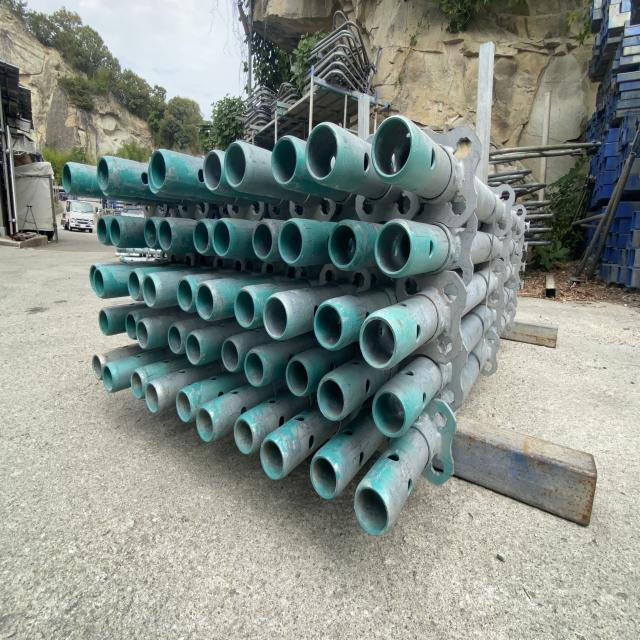pipe: (369, 117, 424, 176), (364, 309, 402, 379), (372, 389, 416, 447), (273, 342, 313, 404), (356, 481, 394, 540), (304, 122, 336, 180), (314, 300, 348, 352), (265, 292, 296, 349), (212, 328, 245, 381), (233, 282, 263, 340), (318, 371, 350, 425), (270, 133, 296, 194), (277, 216, 306, 268), (330, 222, 360, 272), (311, 452, 341, 502), (196, 278, 220, 336), (261, 429, 287, 481), (383, 222, 411, 270), (252, 214, 274, 265), (164, 319, 190, 359), (146, 150, 170, 193), (212, 213, 234, 259), (172, 386, 195, 430), (194, 402, 216, 448), (244, 348, 265, 392), (230, 416, 253, 456), (204, 146, 222, 197), (228, 141, 246, 190), (192, 214, 210, 262), (158, 211, 174, 261), (176, 270, 192, 318), (104, 353, 121, 398), (143, 269, 158, 318), (122, 308, 142, 342), (98, 156, 112, 203), (95, 218, 112, 254), (146, 374, 160, 417), (60, 162, 76, 198), (142, 218, 158, 254), (124, 269, 143, 299), (186, 328, 202, 363), (89, 350, 108, 379), (130, 371, 146, 404), (138, 320, 152, 350), (96, 308, 112, 334), (88, 260, 98, 288), (97, 265, 105, 297), (109, 224, 121, 245)
